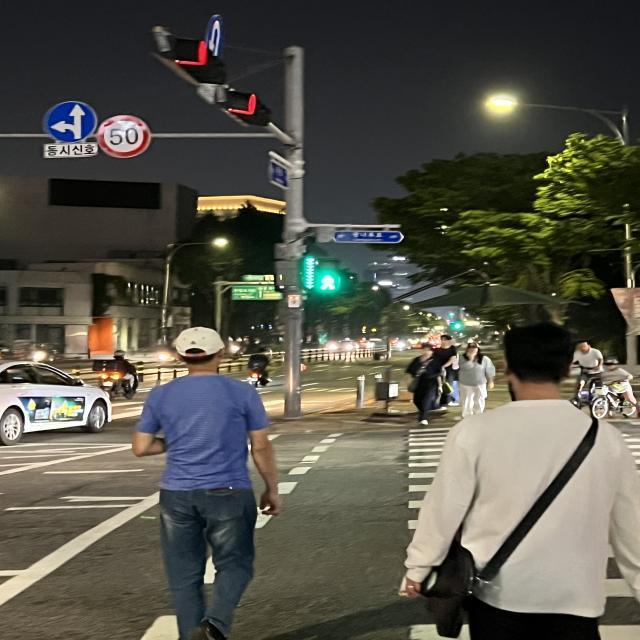crosswalk: (402, 425, 640, 640)
geen-crossing: (294, 247, 366, 320)
